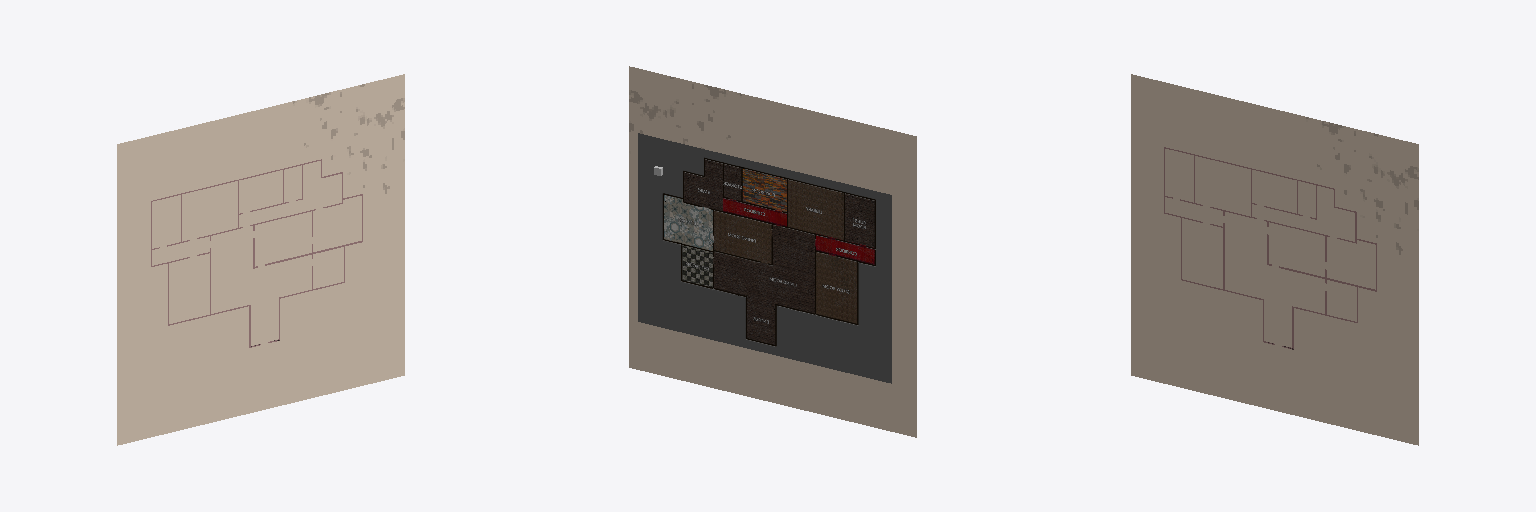
The picture shows the model from 3 angles: view 1: azimuth 30°, elevation 25°; view 2: azimuth 150°, elevation 25°; view 3: azimuth 330°, elevation 25°; orthographic projection.
Visible parts, largest first — view 1: S_Ceiling, S_Walls; view 2: S_RefFloor, S_Ceiling; view 3: S_Ceiling, S_Walls.
Boxes of the visible parts, x1=… form: S_Ceiling: x1=117, y1=74, x2=404, y2=445; S_Walls: x1=151, y1=159, x2=362, y2=347; S_RefFloor: x1=638, y1=133, x2=891, y2=383; S_Ceiling: x1=629, y1=66, x2=916, y2=437; S_Ceiling: x1=1131, y1=74, x2=1418, y2=445; S_Walls: x1=1164, y1=147, x2=1376, y2=349.
Bounding box in the file's own units: 38.32 × 38.32 × 2.44.
8 materials, 7 textured.